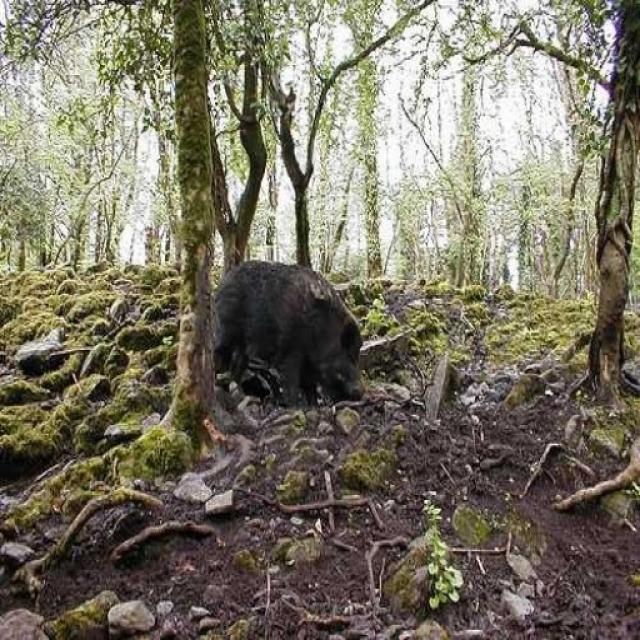pig: (154, 177, 372, 448)
